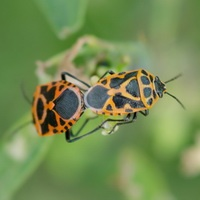insect: (32, 69, 184, 141), (70, 107, 126, 136)
